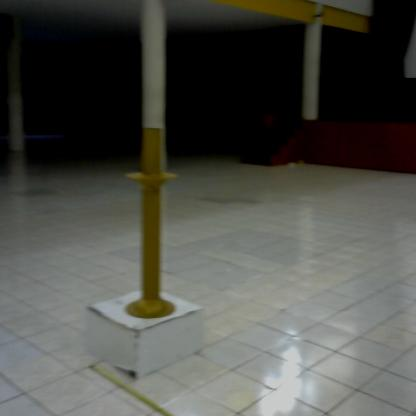pole: (119, 124, 182, 323)
